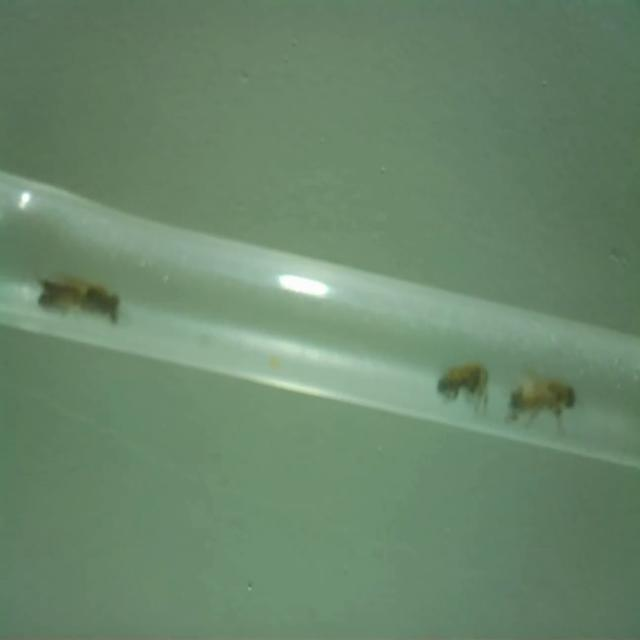Honeybee-Detection: (506, 367, 576, 432), (435, 358, 489, 413), (78, 279, 127, 326), (33, 271, 80, 313)
